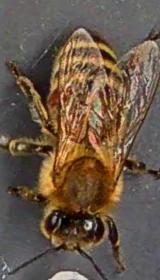varroa_mite: (38, 81, 72, 110)
